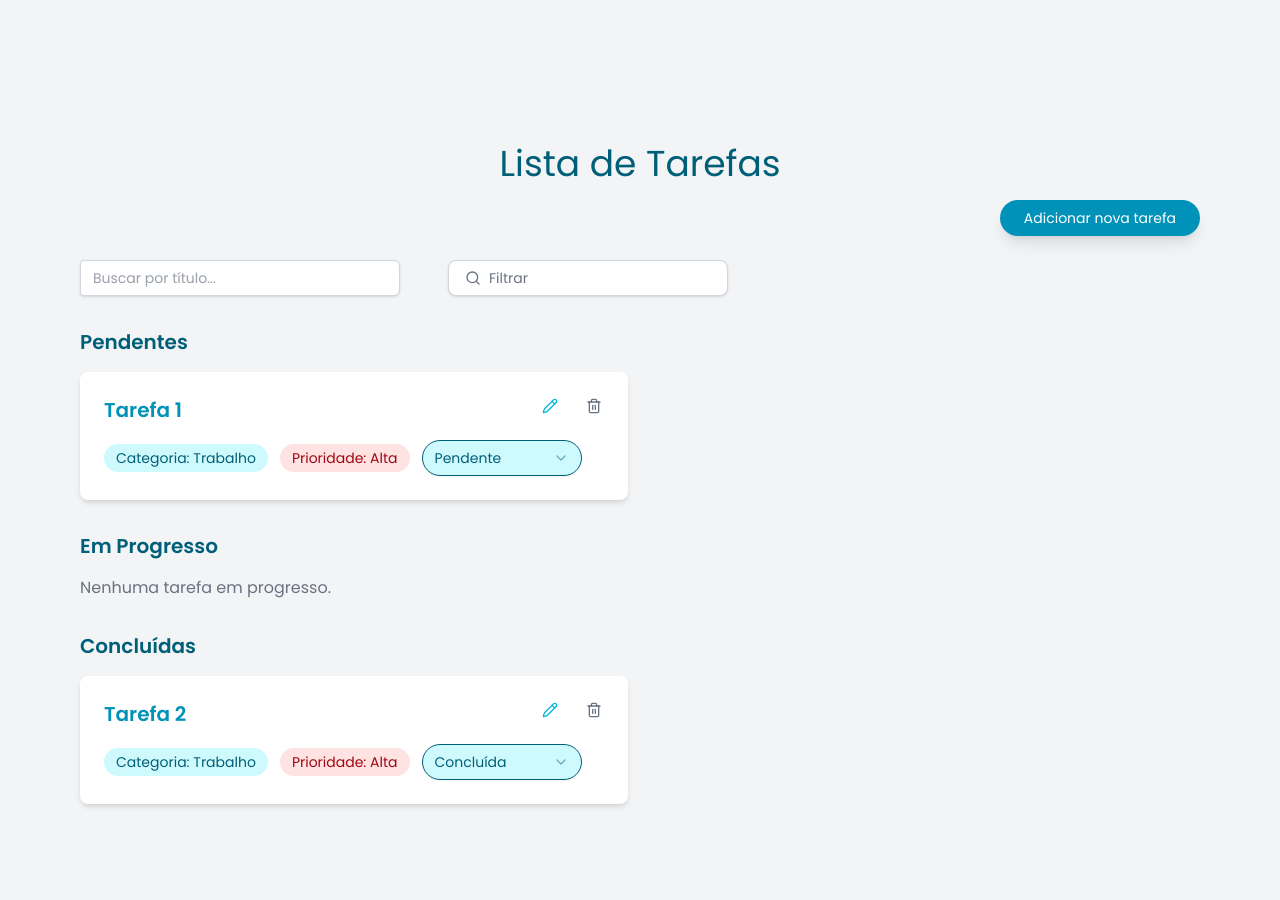
Test: TaskPage › should open and close Edit Task modal
Click the button named "Edit Task Button" in the row of "Tarefa 1": (550, 406) [532,388,568,424]
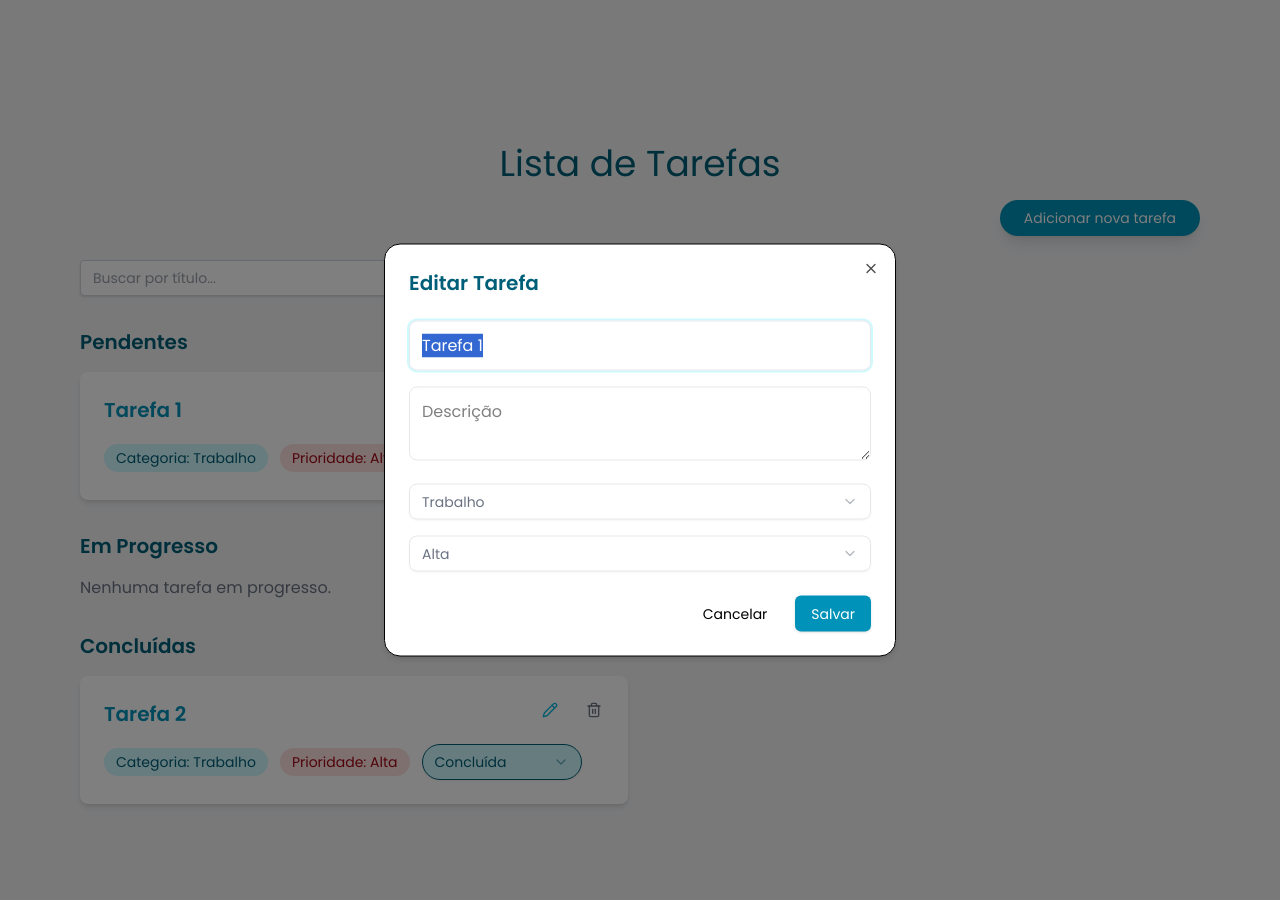
Now the heading "Editar Tarefa" is shown, box [409,268,539,296]
Click the button "Cancelar": (735, 614) [687,596,783,632]
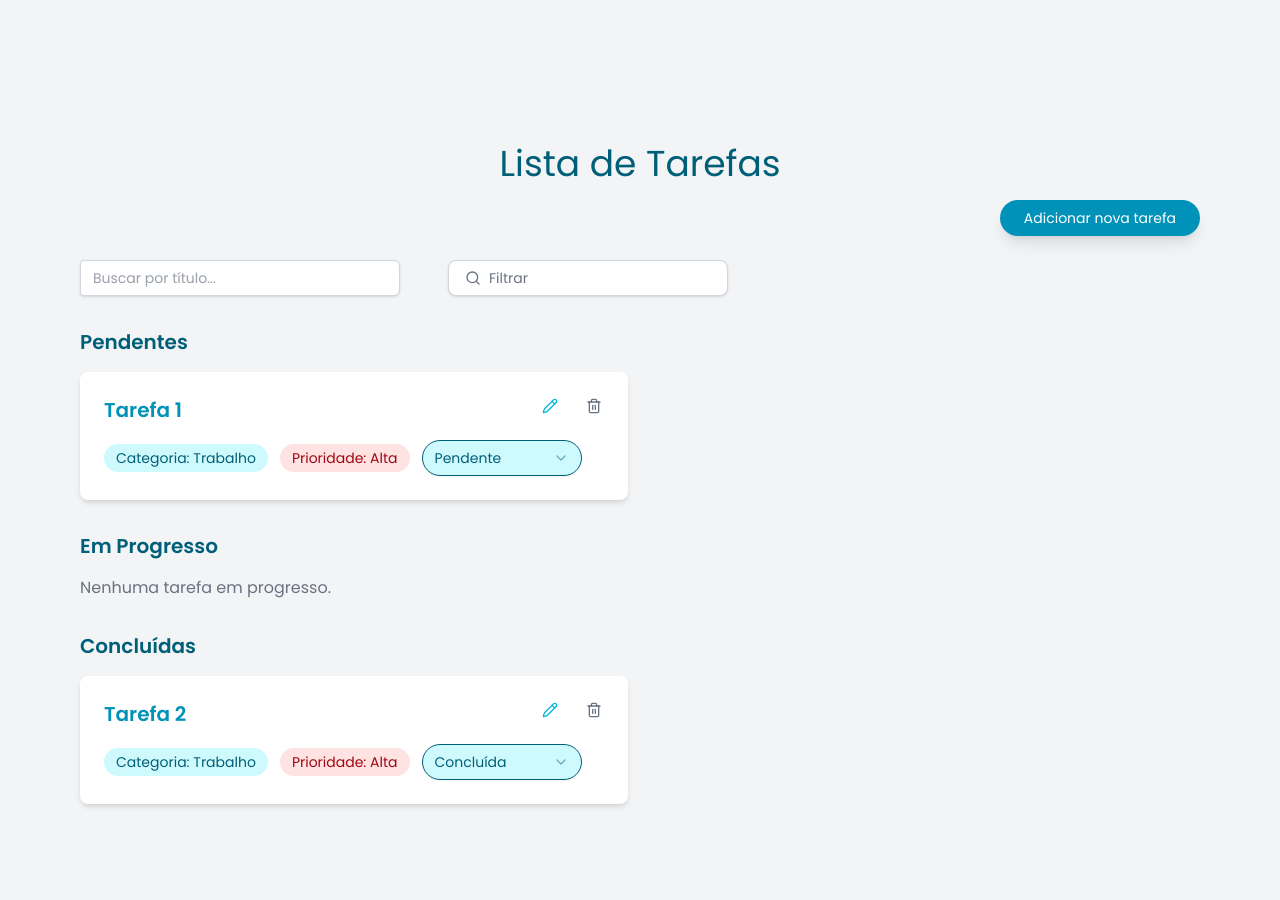
Now the heading "Editar Tarefa" is gone
